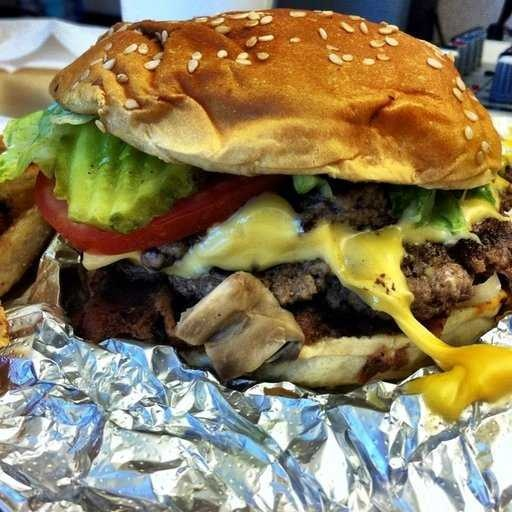hamburger: (22, 18, 504, 365)
